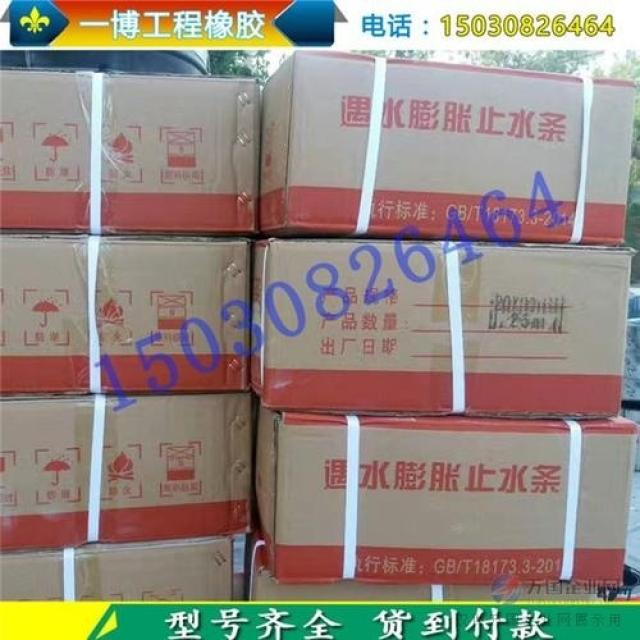box: (251, 399, 638, 587), (261, 51, 636, 244), (250, 237, 635, 418), (0, 69, 260, 234), (0, 233, 250, 401), (0, 391, 251, 556), (240, 536, 594, 600), (0, 536, 232, 602)
